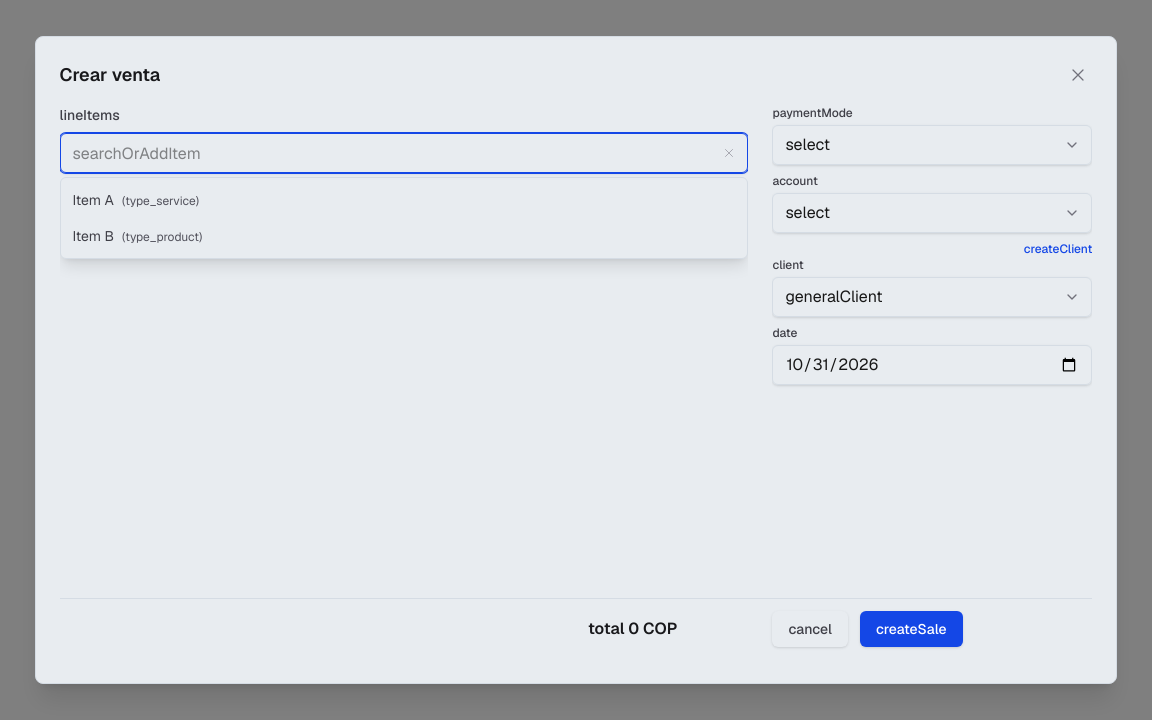
it: SaleForm layout invariants (C12-3f) › rows container has overflow-y-auto + min-h-0 for scroll isolation
Expected: the list with id "item-search-listbox" is shown, x1=60 y1=177 x2=748 y2=259
Press the mouse on the option "Item A(type_service)": (136, 200) x1=73 y1=191 x2=199 y2=209
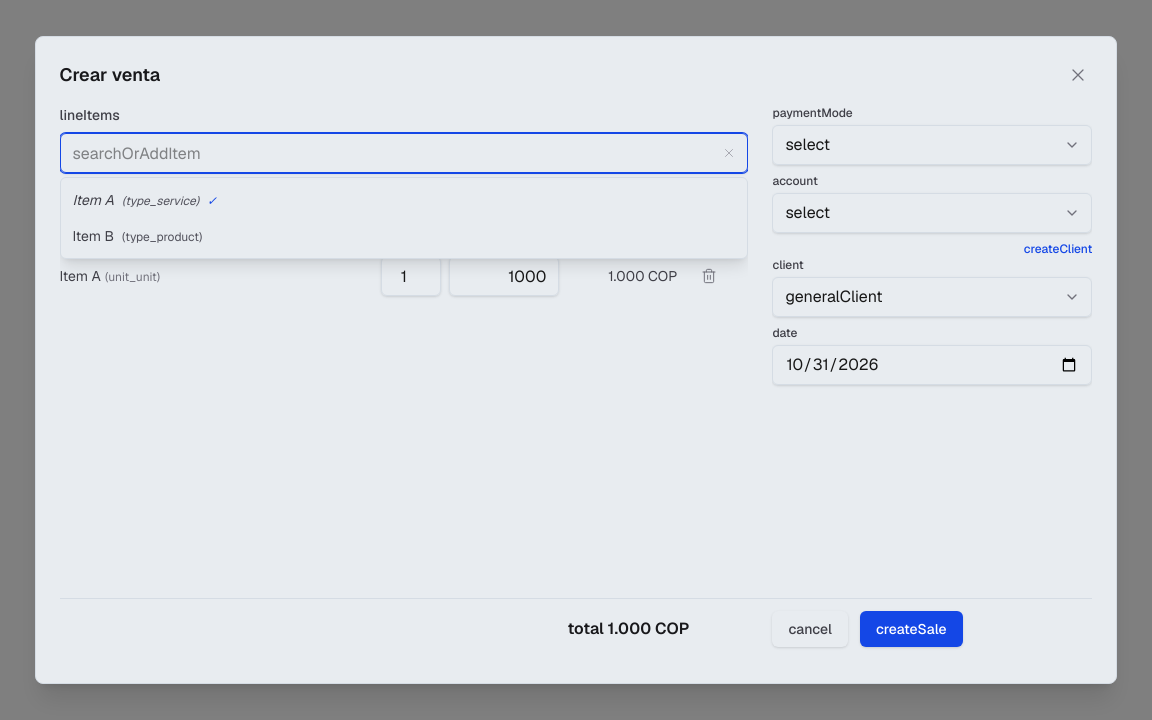
Expected: the element with test id "table-rows-container" is shown, x1=60 y1=221 x2=734 y2=298
